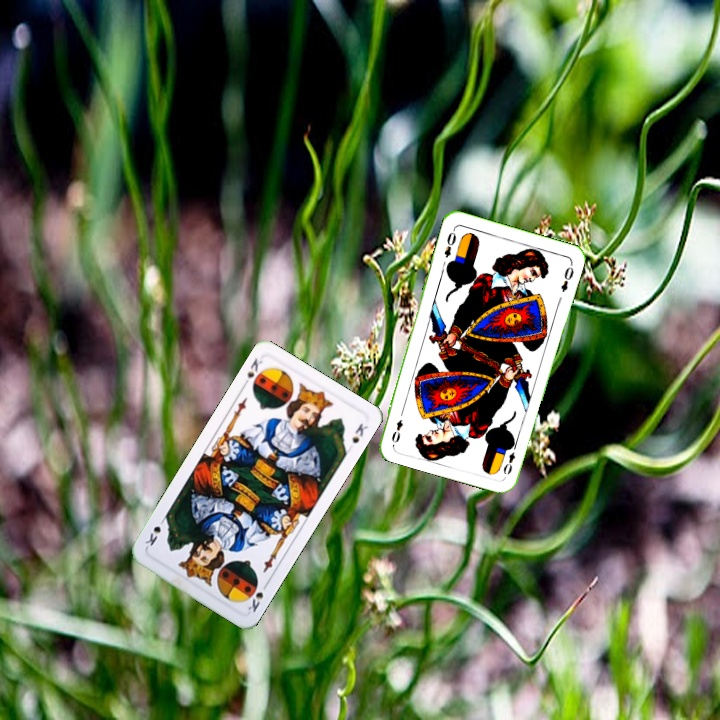EO: (499, 439, 519, 478), (440, 225, 459, 261)
SK: (244, 578, 271, 615), (240, 354, 265, 390)
